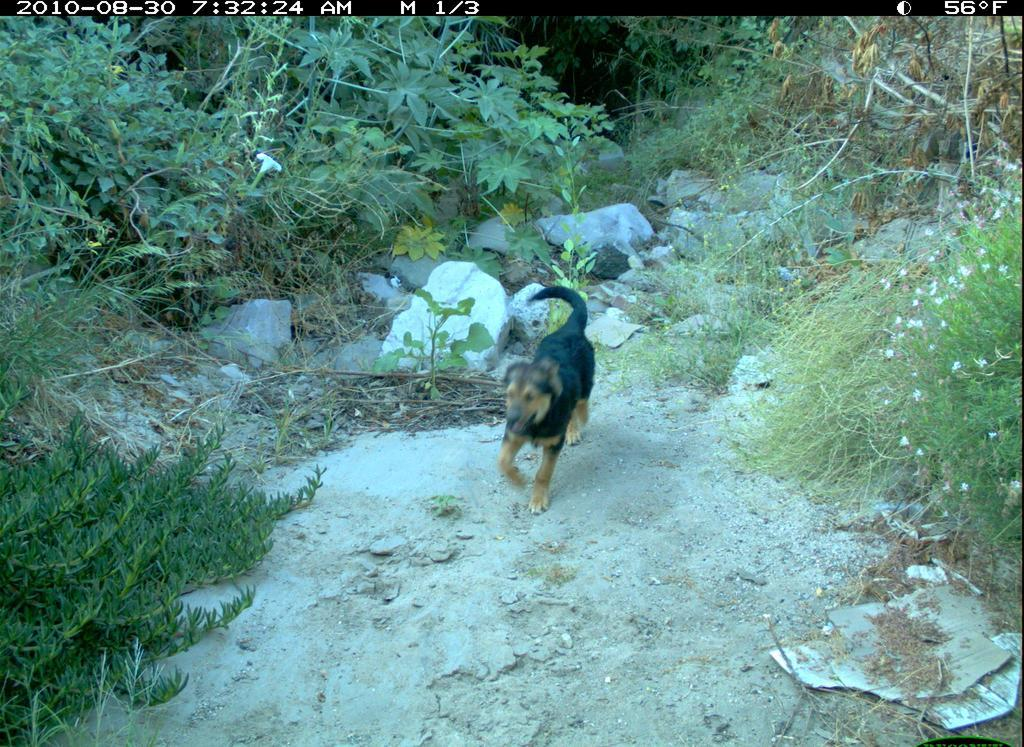dog: (487, 265, 616, 536)
